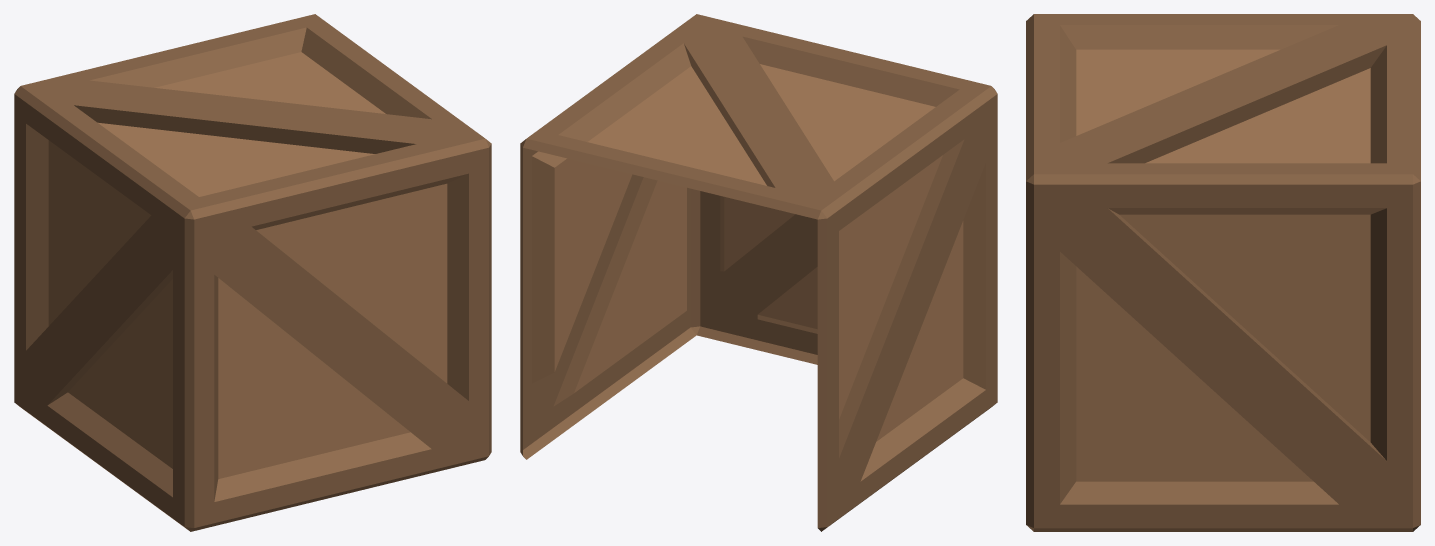
Rendered from SmallBox.fbx.
3 views of the same model, side by side, from view 1: azimuth 30°, elevation 25°; view 2: azimuth 150°, elevation 25°; view 3: azimuth 270°, elevation 25° (orthographic). The views are drawn at different scales.
Parts seen in each view (by area): view 1: New SmallBox; view 2: New SmallBox; view 3: New SmallBox.
Boxes of the visible parts, x1,y1,x2,y2 form: New SmallBox: (14,14,491,531); New SmallBox: (520,14,997,531); New SmallBox: (1026,14,1420,531).
Size of the model in its own units: 50 by 50 by 50.
